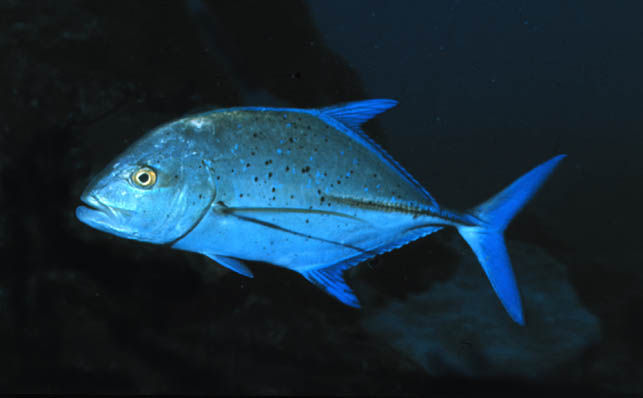fish: (77, 98, 567, 327)
